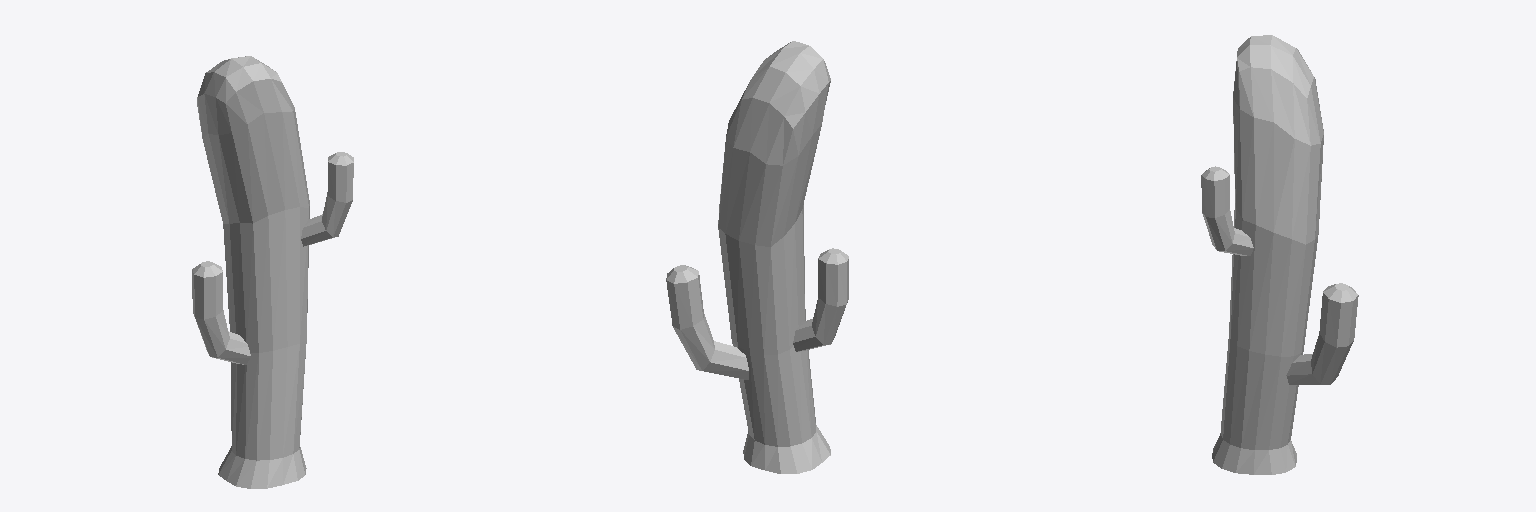
File: cactuses_3.obj
The picture shows the model from 3 angles: view 1: azimuth 30°, elevation 25°; view 2: azimuth 150°, elevation 25°; view 3: azimuth 270°, elevation 25°; orthographic projection.
Parts seen in each view (by area): view 1: Plane; view 2: Plane; view 3: Plane.
Part boxes in pixels (bbox=[...]): Plane: bbox=[192, 56, 353, 488]; Plane: bbox=[666, 41, 848, 473]; Plane: bbox=[1201, 35, 1358, 474].
Size of the model in its own units: 2.67 by 7.48 by 2.57.